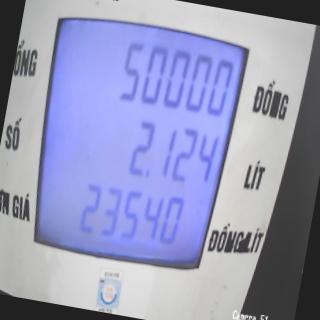screen: (14, 0, 259, 286)
